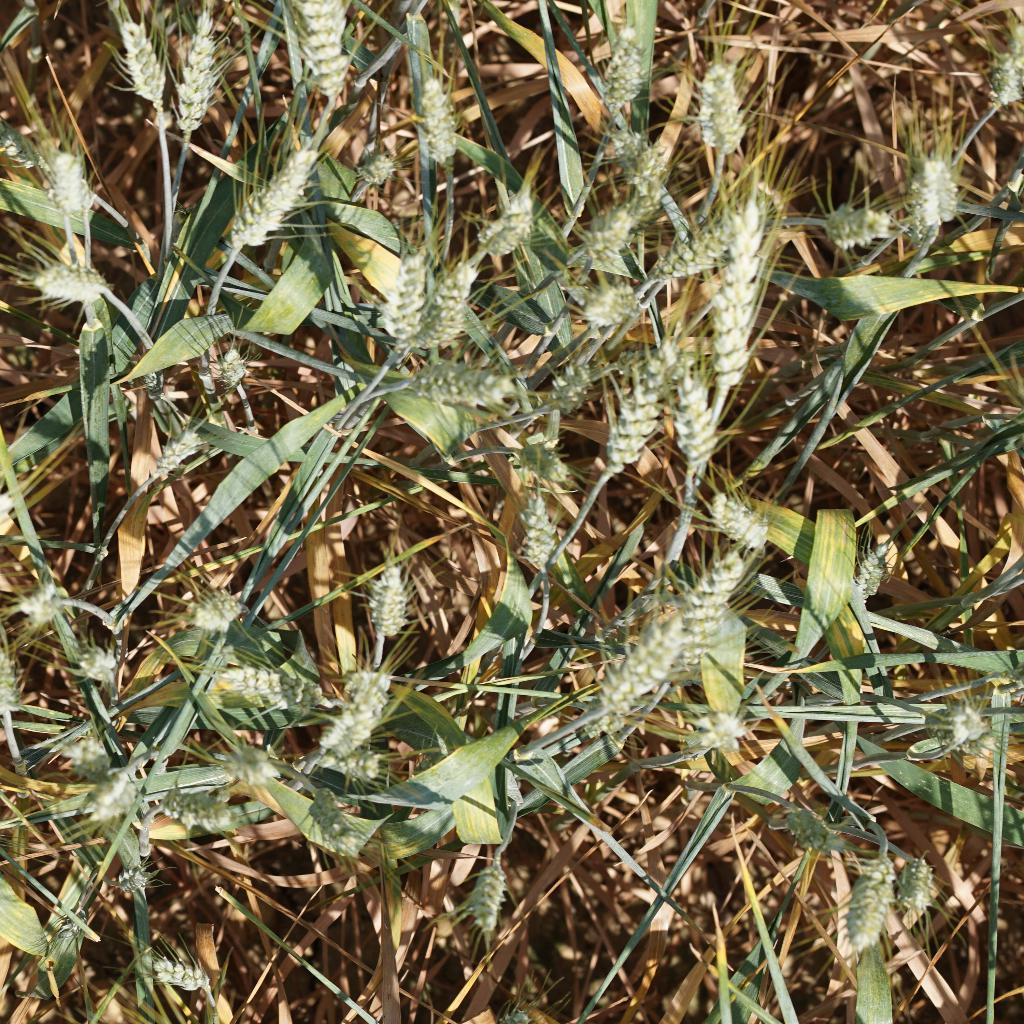0-0: (691, 178, 793, 391), (191, 148, 321, 251), (601, 331, 687, 479), (582, 597, 680, 710), (557, 187, 657, 284), (397, 347, 529, 418), (662, 208, 778, 288), (899, 135, 979, 251), (681, 44, 759, 160), (171, 4, 234, 146), (97, 1, 171, 119), (675, 556, 750, 671), (209, 647, 325, 721), (919, 679, 1013, 768), (316, 669, 397, 769), (671, 339, 728, 481), (501, 473, 573, 580), (277, 0, 355, 96), (408, 254, 479, 348), (23, 246, 115, 318), (841, 844, 900, 953), (459, 187, 535, 268), (703, 478, 777, 561), (369, 243, 428, 347), (595, 12, 656, 112), (352, 561, 418, 653), (172, 570, 260, 638), (811, 195, 907, 257), (149, 784, 253, 840), (38, 705, 112, 783), (413, 73, 474, 167), (298, 770, 366, 854), (26, 130, 90, 219), (6, 555, 75, 632), (66, 755, 146, 819), (589, 123, 668, 187), (565, 275, 649, 333), (681, 701, 762, 761), (466, 844, 512, 939), (141, 941, 213, 1001), (777, 789, 841, 856), (329, 736, 414, 784), (892, 851, 946, 926), (979, 17, 1024, 106), (45, 635, 120, 687), (535, 354, 594, 415), (146, 420, 202, 482), (218, 740, 286, 791), (846, 539, 894, 603), (505, 438, 573, 483), (350, 141, 397, 198), (576, 696, 635, 735), (211, 340, 247, 394), (48, 898, 88, 945), (111, 859, 158, 895), (137, 364, 166, 397)
